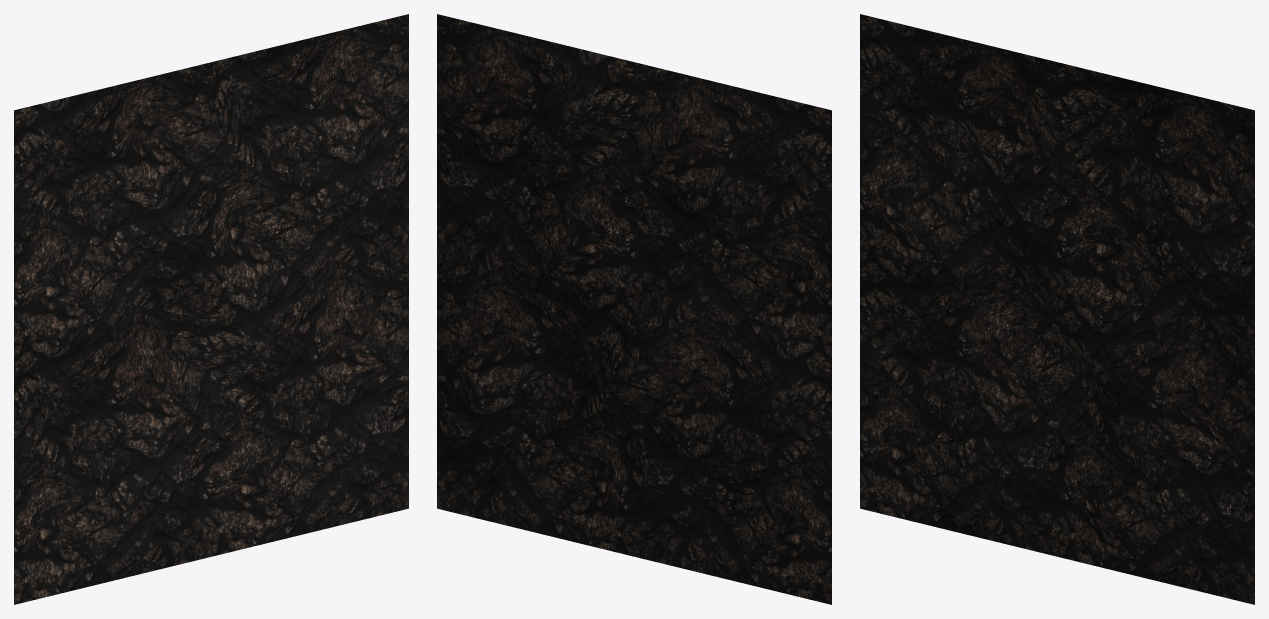
The model's file is Breakable_Door.FBX.
3 views of the same model, side by side, from view 1: azimuth 30°, elevation 25°; view 2: azimuth 150°, elevation 25°; view 3: azimuth 330°, elevation 25° (orthographic).
Parts seen in each view (by area): view 1: Plane001; view 2: Plane001; view 3: Plane001.
Part boxes in pixels (x1,y1,x2,y2): Plane001: (14, 14, 408, 604); Plane001: (437, 14, 831, 604); Plane001: (860, 14, 1254, 604).
Bounding box in the file's own units: 175 × 20.56 × 210.
1 material, 1 textured.
